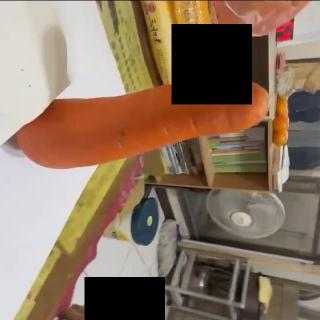carrot: (12, 78, 270, 170)
